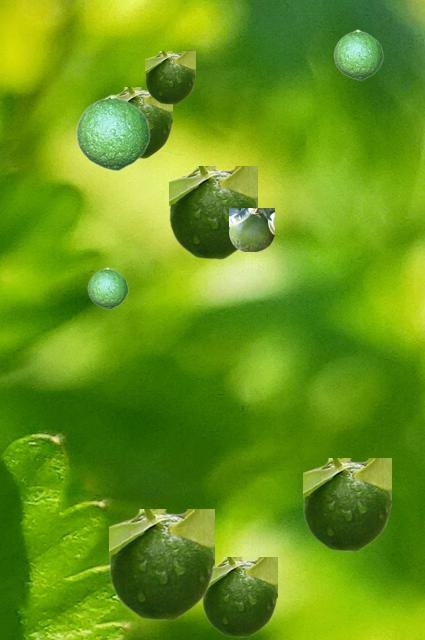dalandan: (109, 509, 213, 619), (169, 166, 256, 258), (303, 458, 390, 550), (202, 557, 276, 636), (75, 94, 149, 170), (115, 87, 171, 157), (145, 51, 194, 103), (333, 29, 382, 79), (229, 208, 273, 250), (87, 267, 127, 308)
